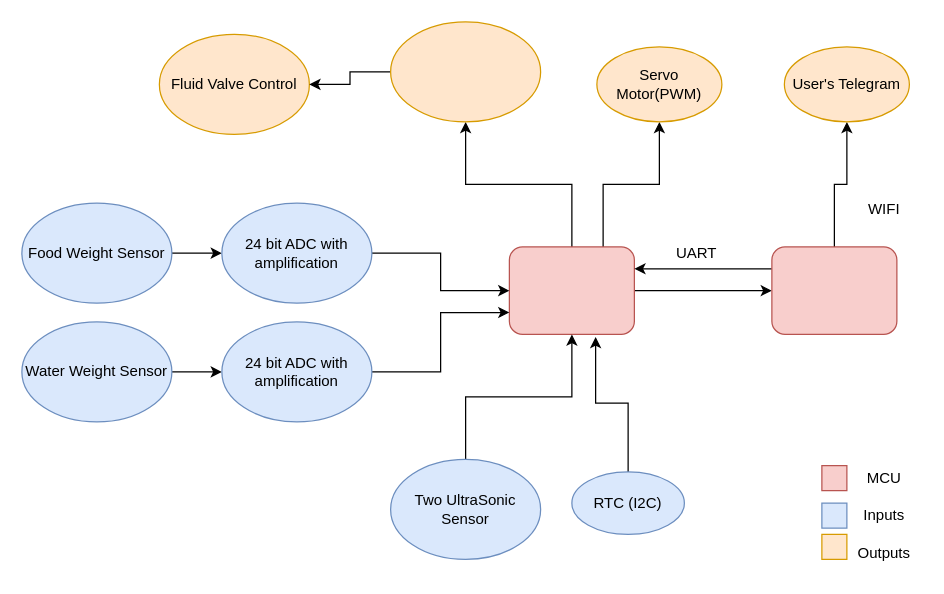
This 944x594 diagram has some shape labels left out. Each missing label, with the box of its shape:
12v Relay: (389, 21, 541, 122)
ESP32: (771, 246, 897, 334)
STM32: (508, 246, 634, 334)
